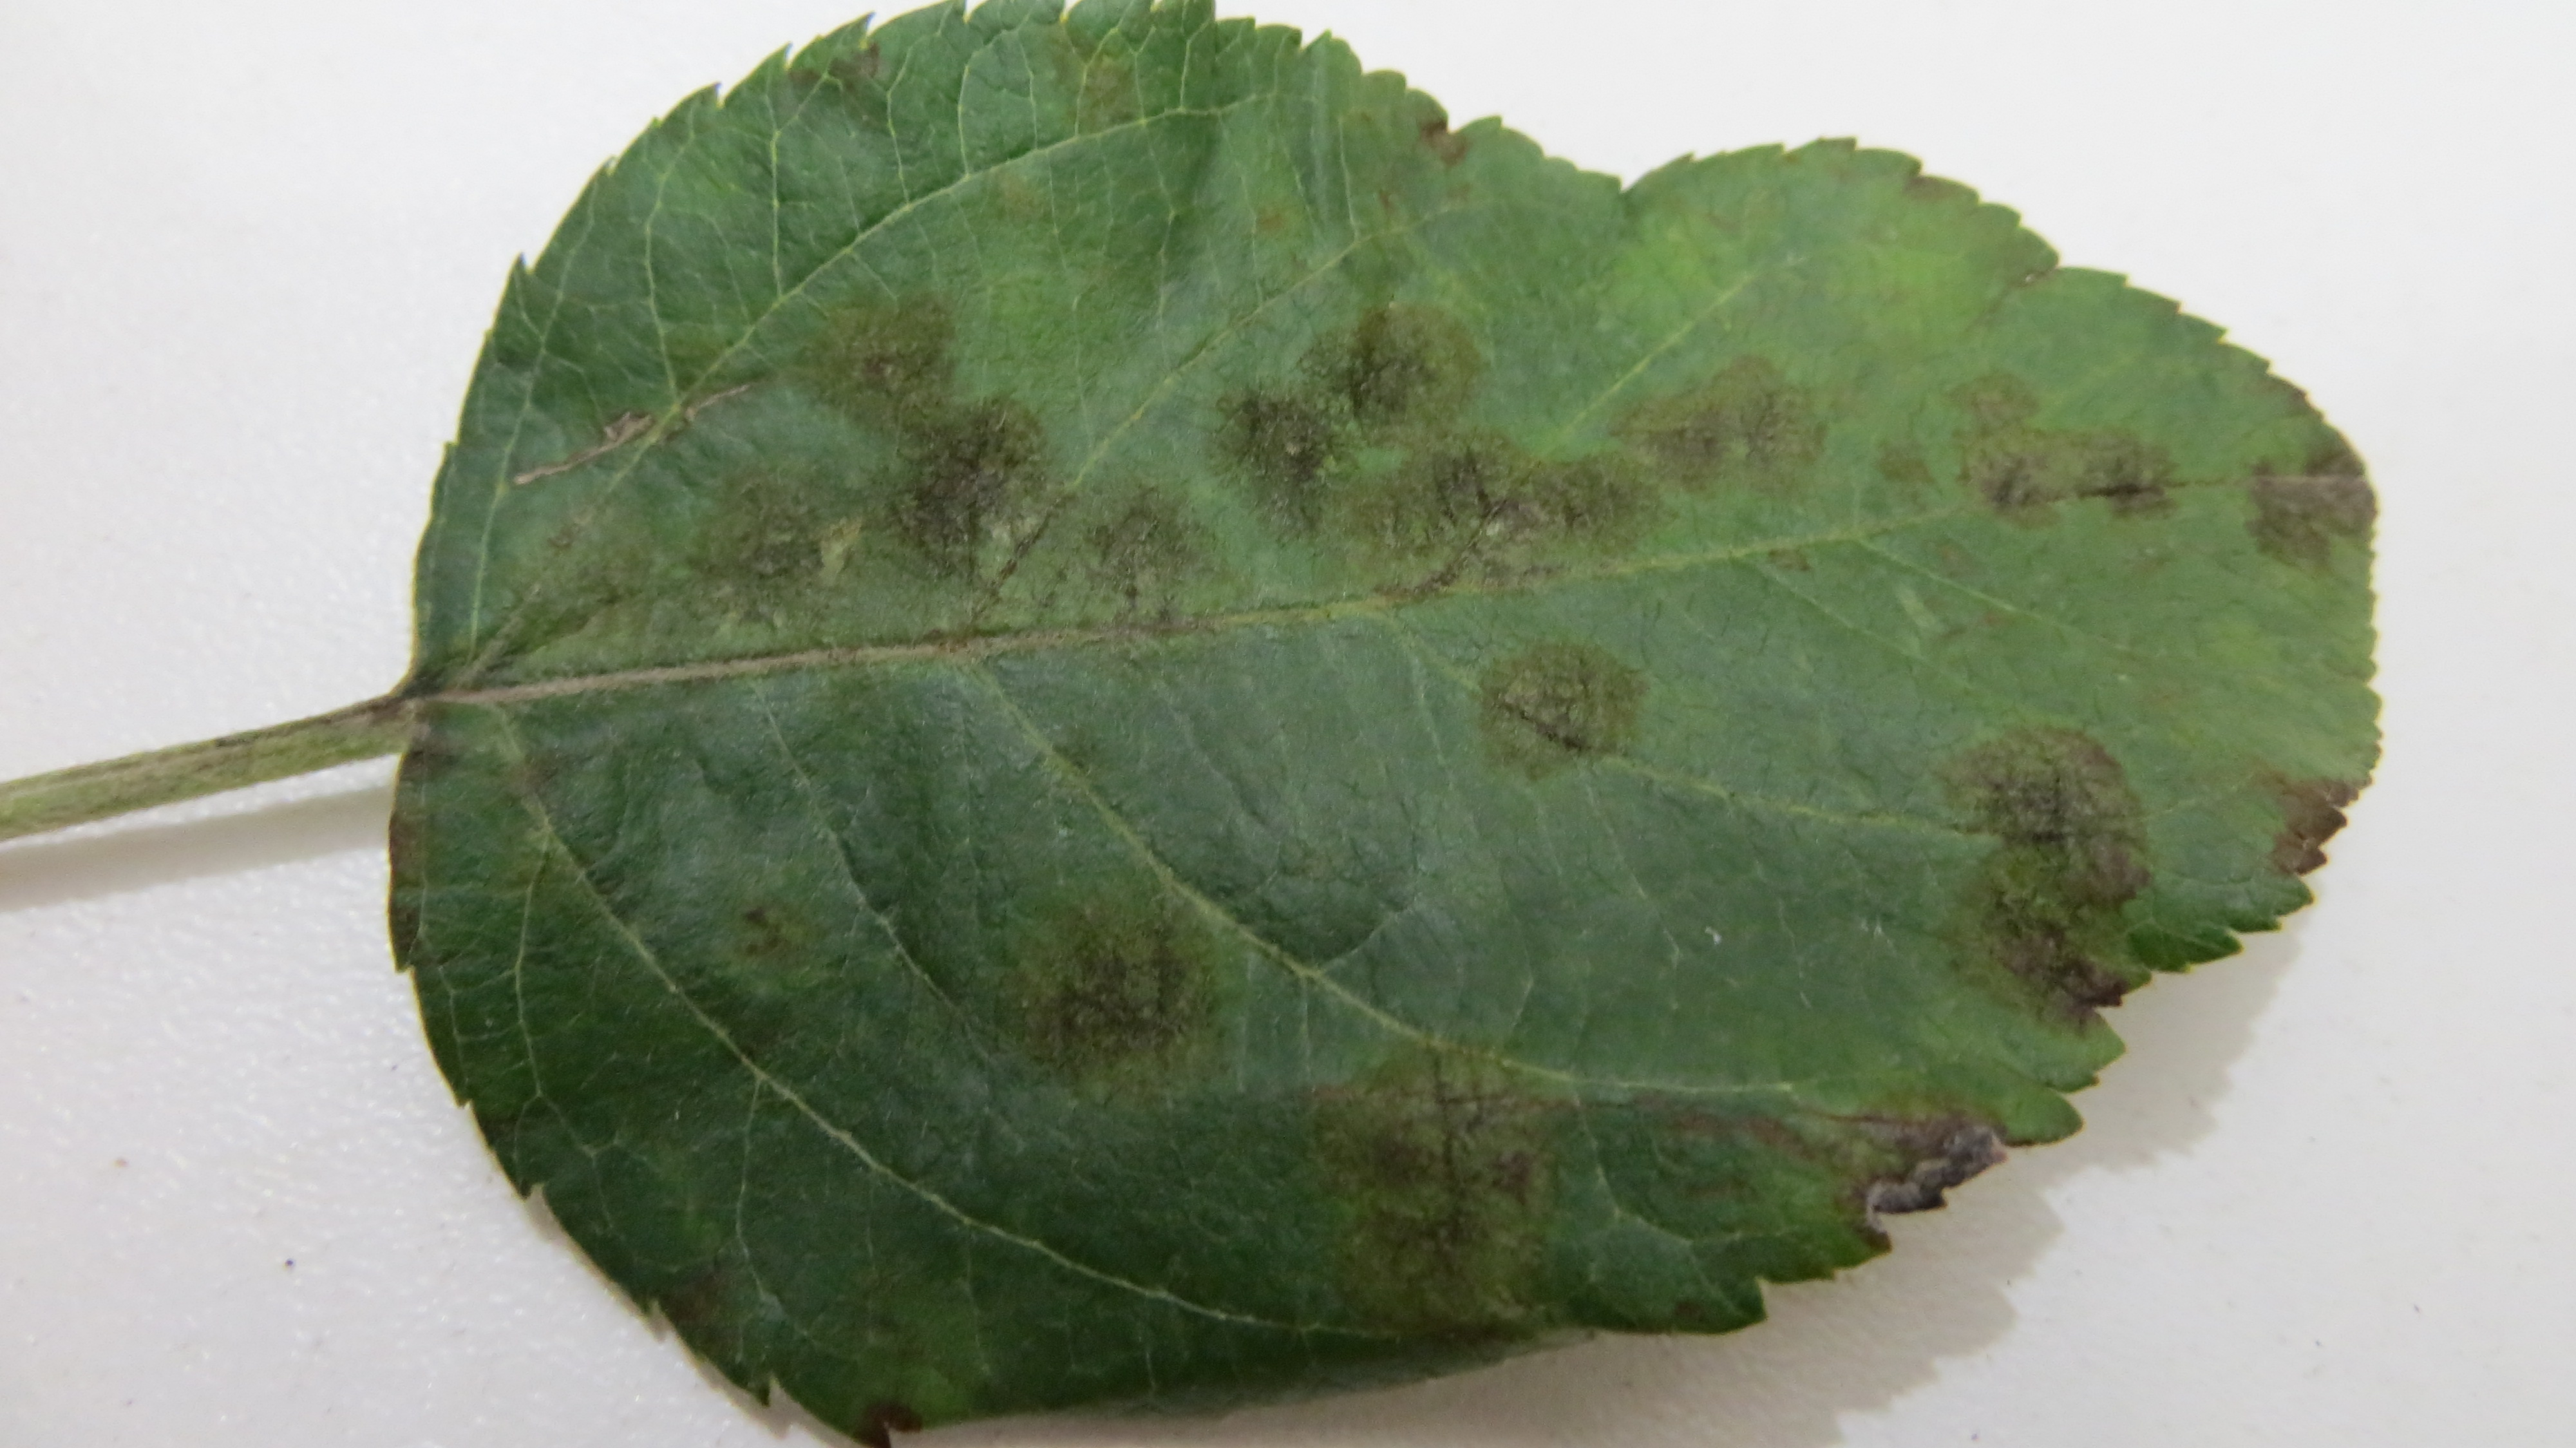sarna: (1295, 1021, 1571, 1340), (1934, 722, 2162, 1032), (1375, 421, 1661, 635), (1934, 356, 2178, 547), (1007, 892, 1235, 1094), (814, 281, 1012, 490), (495, 480, 706, 676), (1628, 336, 1845, 517), (904, 391, 1077, 586), (1309, 287, 1497, 450), (1805, 1083, 2012, 1230), (688, 444, 853, 628), (1458, 632, 1654, 782), (1212, 366, 1371, 542), (2219, 404, 2380, 572), (1090, 473, 1217, 639), (2243, 747, 2380, 889), (720, 883, 814, 975)
